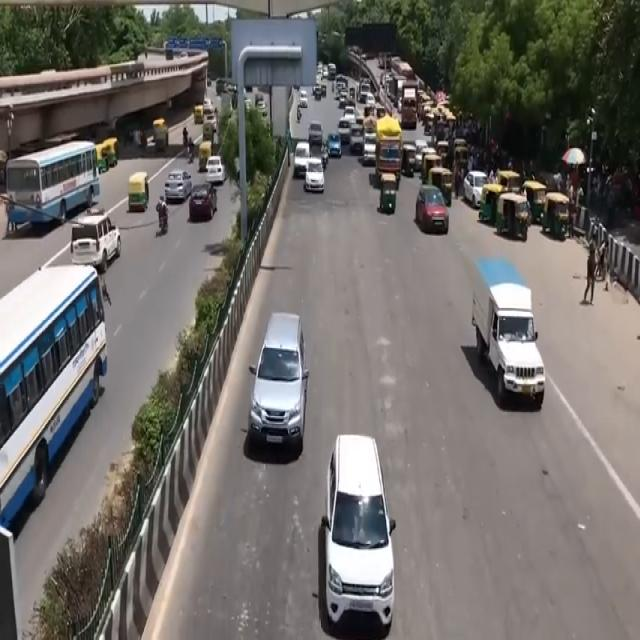BUS: (0, 262, 105, 491), (7, 143, 104, 240)
SUV: (321, 430, 398, 636), (248, 309, 309, 460)
TRUCK: (472, 265, 544, 411), (375, 119, 400, 188)
